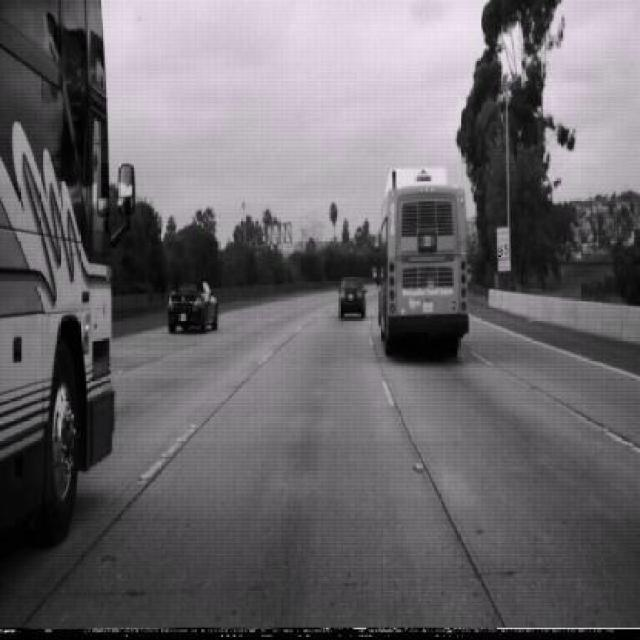speedLimit65: (495, 225, 511, 260)
